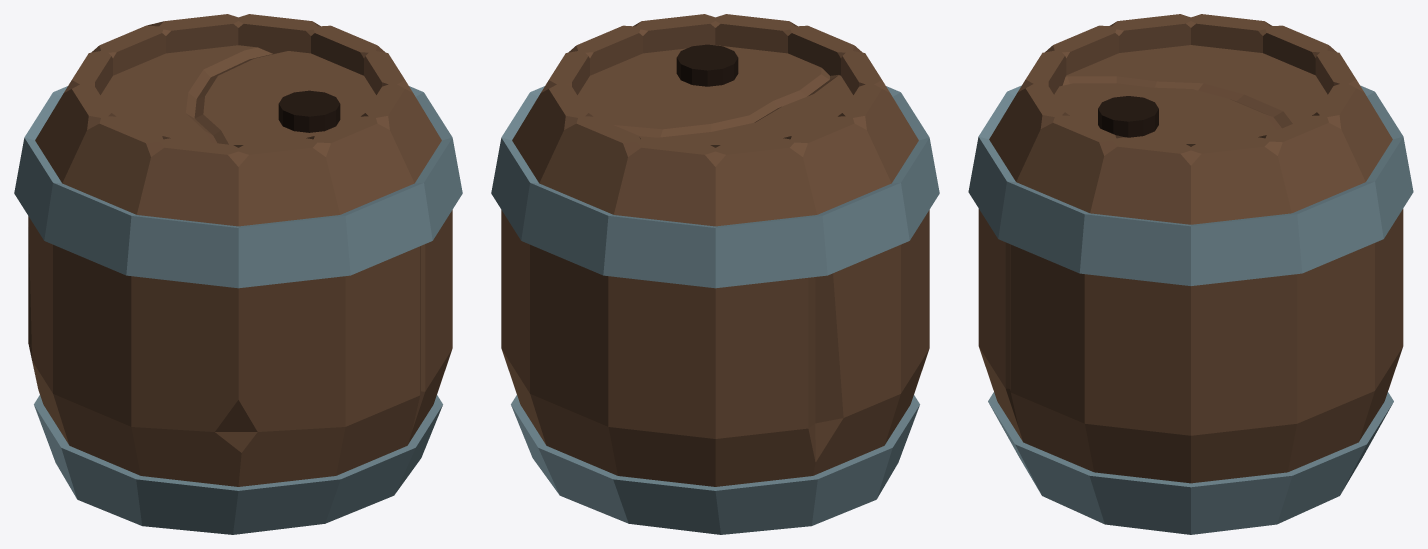
Rendered from barrel.fbx.
3 views of the same model, side by side, from view 1: azimuth 30°, elevation 25°; view 2: azimuth 150°, elevation 25°; view 3: azimuth 270°, elevation 25° (orthographic).
Visible parts, largest first — view 1: Cylinder; view 2: Cylinder; view 3: Cylinder.
Part boxes in pixels (box(x1,y1,x2,y2)): Cylinder: box(14, 14, 462, 534); Cylinder: box(491, 14, 939, 534); Cylinder: box(968, 14, 1413, 534).
Size of the model in its own units: 210 by 194 by 210.
